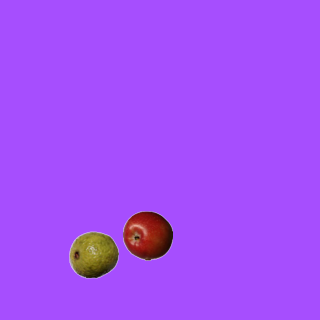Apple Braeburn: (122, 210, 172, 260)
Guava: (68, 229, 118, 279)
